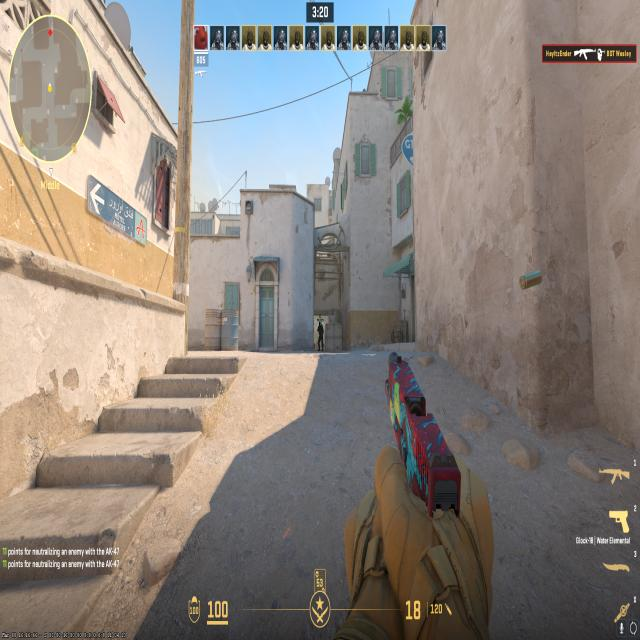ct: (314, 315, 326, 352)
